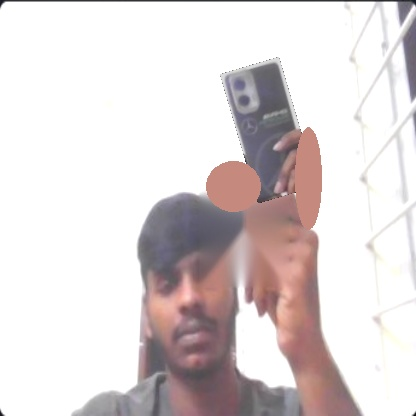cell_phone: (220, 56, 317, 203)
